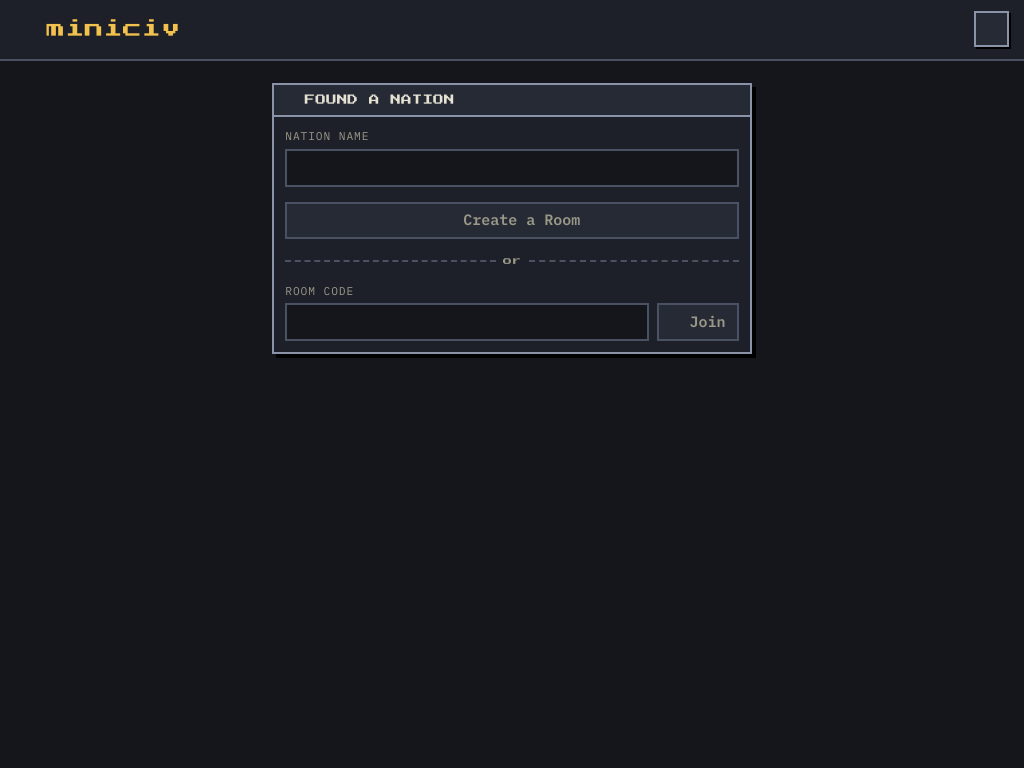
Settings pop-up › opens from the gear and closes from it again
Check: the dialog "Settings" is not shown
Click the button named "Settings" at {"x": 991, "y": 29}, box [974, 11, 1009, 47]
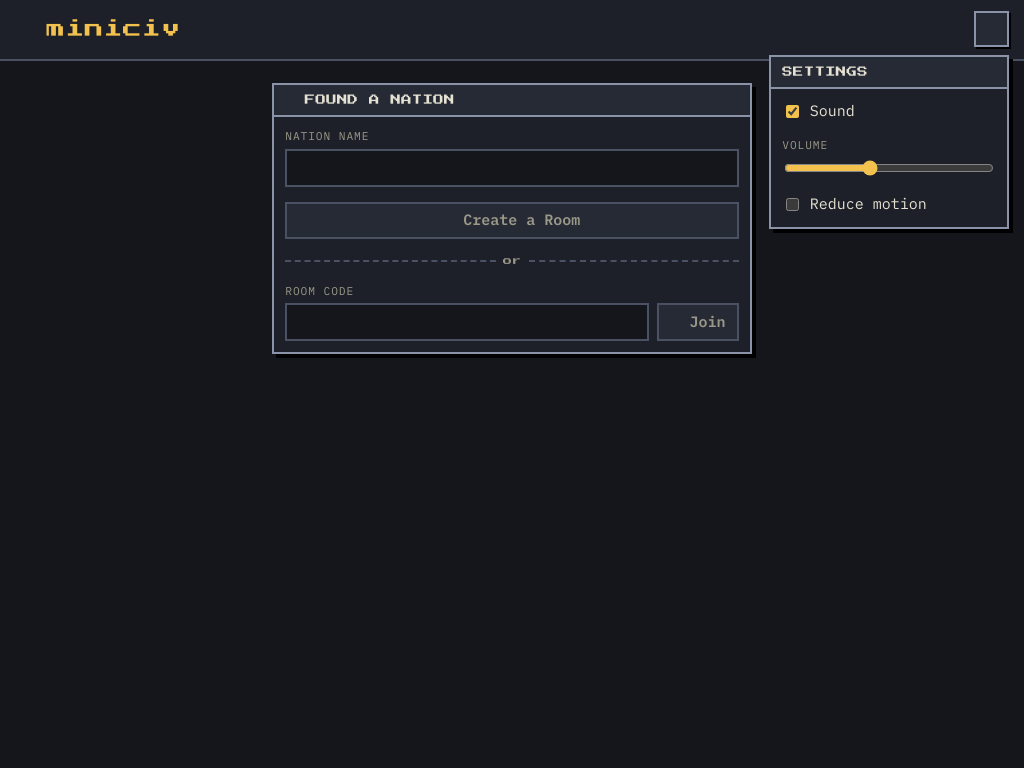
Check: the dialog "Settings" is shown, box [769, 55, 1009, 229]
Click the button named "Settings" at {"x": 991, "y": 29}, box [974, 11, 1009, 47]
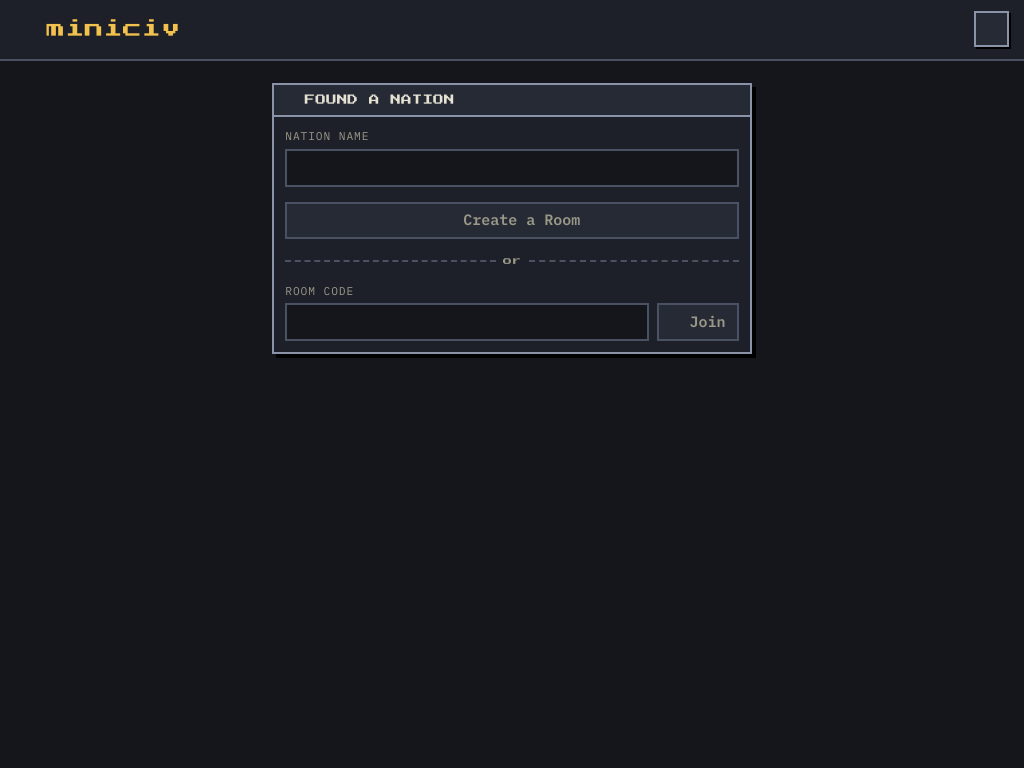
Check: the heading "Settings" is gone
